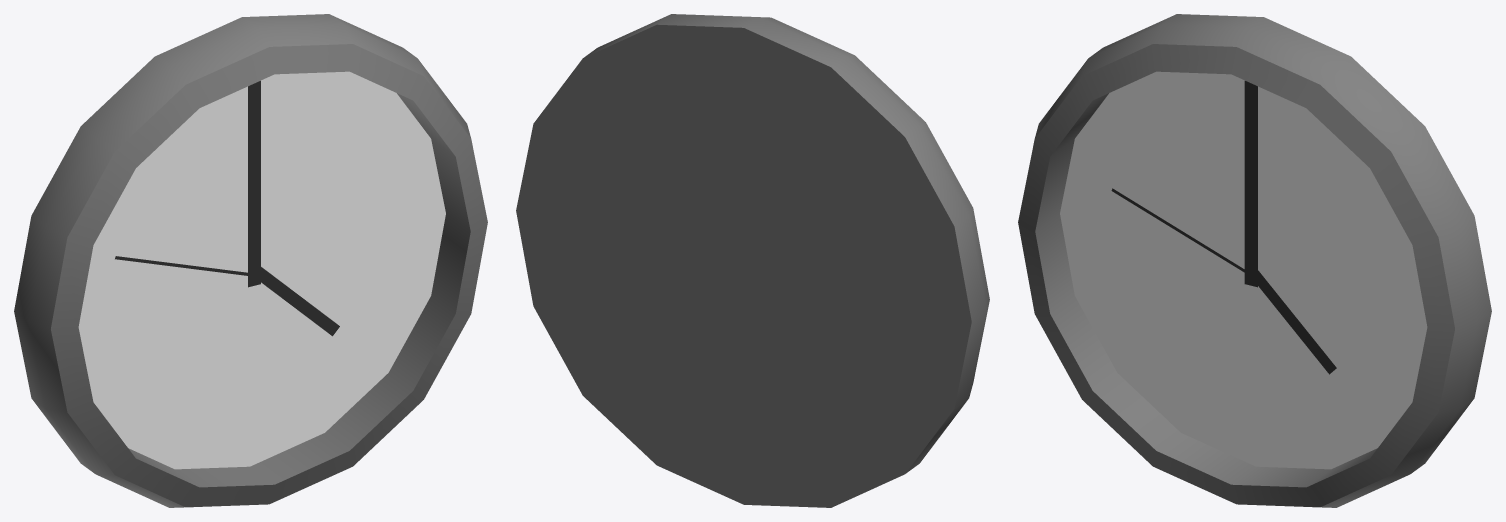
The model's file is Reloj.fbx.
3 renders of one model, left to right at view 1: azimuth 30°, elevation 25°; view 2: azimuth 150°, elevation 25°; view 3: azimuth 330°, elevation 25°, orthographic.
Parts seen in each view (by area): view 1: Reloj; view 2: Reloj; view 3: Reloj.
Part boxes in pixels (x1,y1,x2,y2): Reloj: (14, 14, 487, 507); Reloj: (516, 14, 989, 507); Reloj: (1018, 14, 1491, 507).
Bounding box in the file's own units: 54.81 × 54.81 × 6.82.
